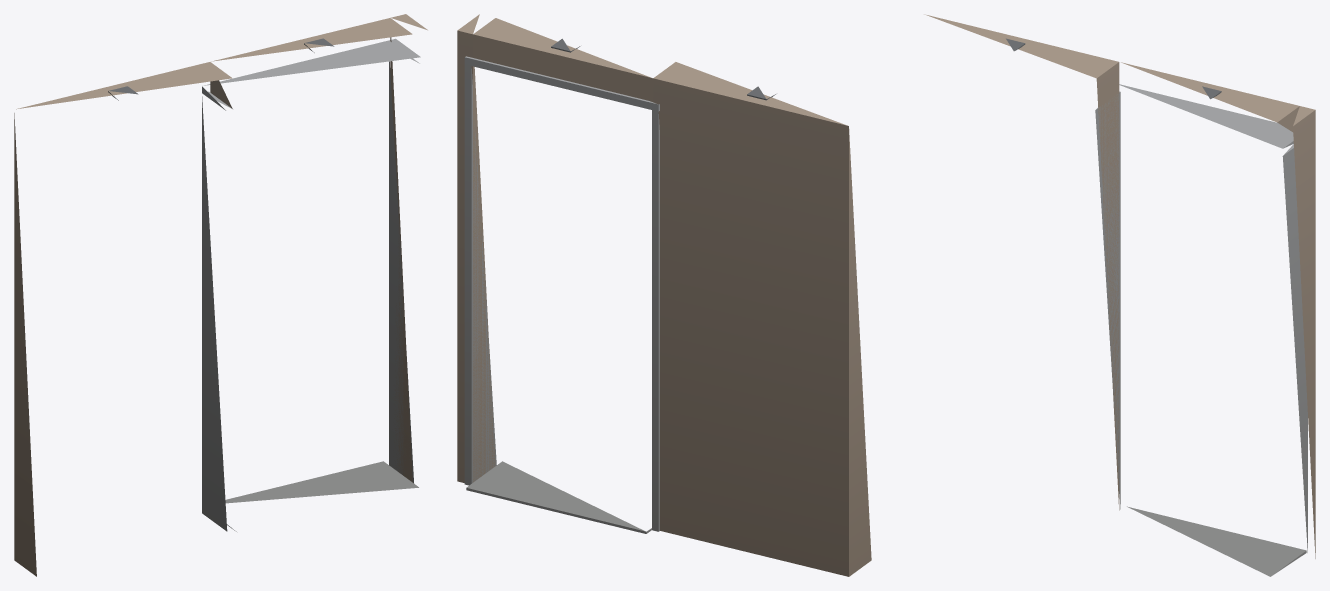
The model's file is doorWallM_regocrete_meshin.glb.
3 renders of one model, left to right at view 1: azimuth 30°, elevation 25°; view 2: azimuth 150°, elevation 25°; view 3: azimuth 330°, elevation 25°, orthographic.
Visible parts, largest first — view 1: doorWallM_regocrete_meshin; view 2: doorWallM_regocrete_meshin; view 3: doorWallM_regocrete_meshin.
Part boxes in pixels (box(x1,y1,x2,y2)): doorWallM_regocrete_meshin: box(14, 14, 427, 576); doorWallM_regocrete_meshin: box(457, 14, 871, 576); doorWallM_regocrete_meshin: box(924, 14, 1315, 576).
Bounding box in the file's own units: 2 × 2.21 × 0.32.
